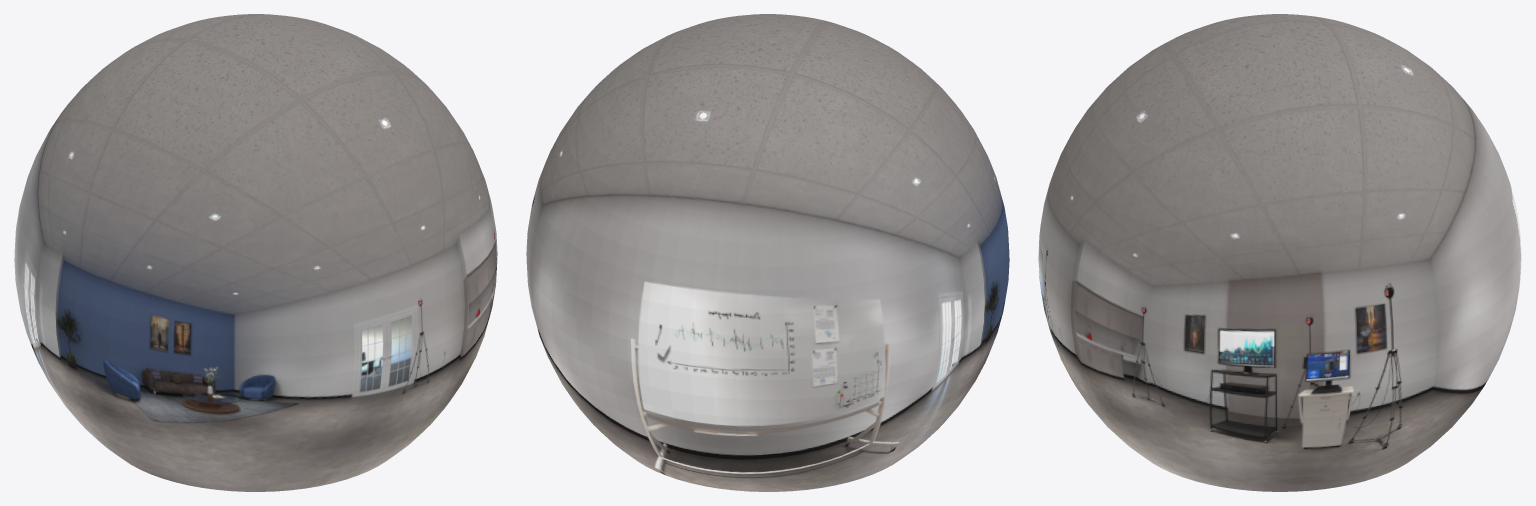
The model's file is Interior 63_1.glb.
3 renders of one model, left to right at view 1: azimuth 30°, elevation 25°; view 2: azimuth 150°, elevation 25°; view 3: azimuth 270°, elevation 25°, orthographic.
Visible parts, largest first — view 1: Sphere; view 2: Sphere; view 3: Sphere.
Part boxes in pixels (x1,y1,x2,y2): Sphere: (14,14,497,491); Sphere: (526,14,1009,491); Sphere: (1038,14,1521,491).
Size of the model in its own units: 19.74 by 17.66 by 19.74.
1 material, 1 textured.
